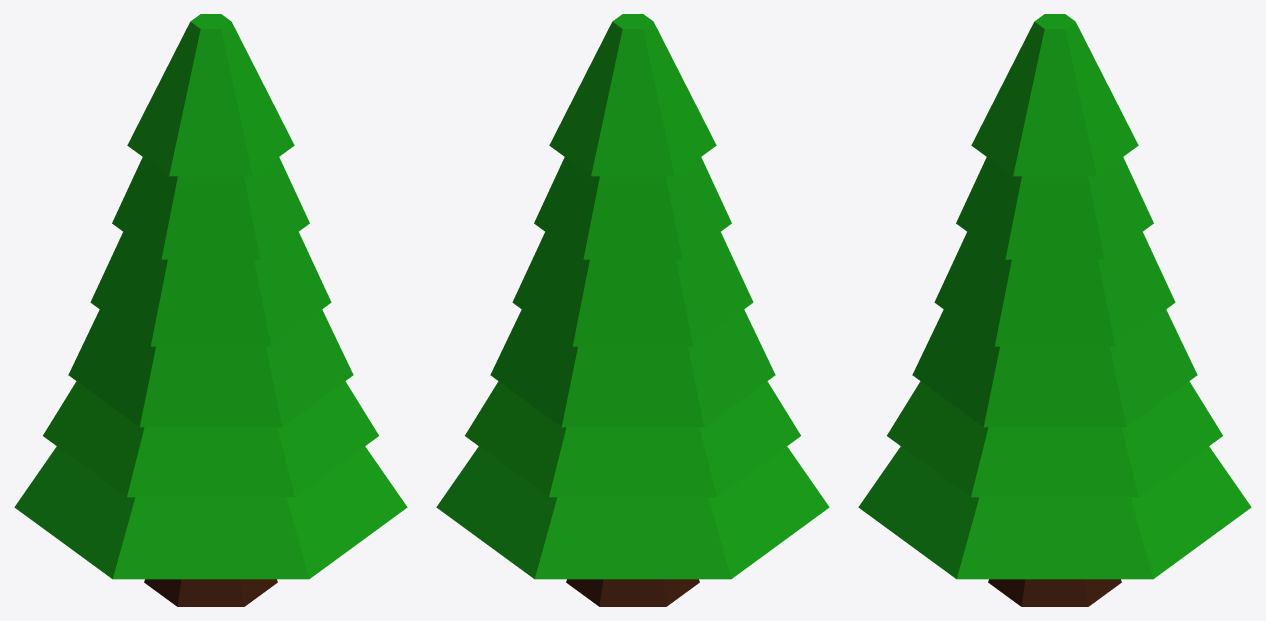
File: treeone.dae
3 renders of one model, left to right at view 1: azimuth 30°, elevation 25°; view 2: azimuth 150°, elevation 25°; view 3: azimuth 270°, elevation 25°, orthographic.
Visible parts, largest first — view 1: Cylinder; view 2: Cylinder; view 3: Cylinder.
Boxes of the visible parts, x1=… form: Cylinder: x1=14, y1=14, x2=407, y2=606; Cylinder: x1=436, y1=14, x2=829, y2=606; Cylinder: x1=858, y1=14, x2=1251, y2=606.
Size of the model in its own units: 102 by 186 by 118.
